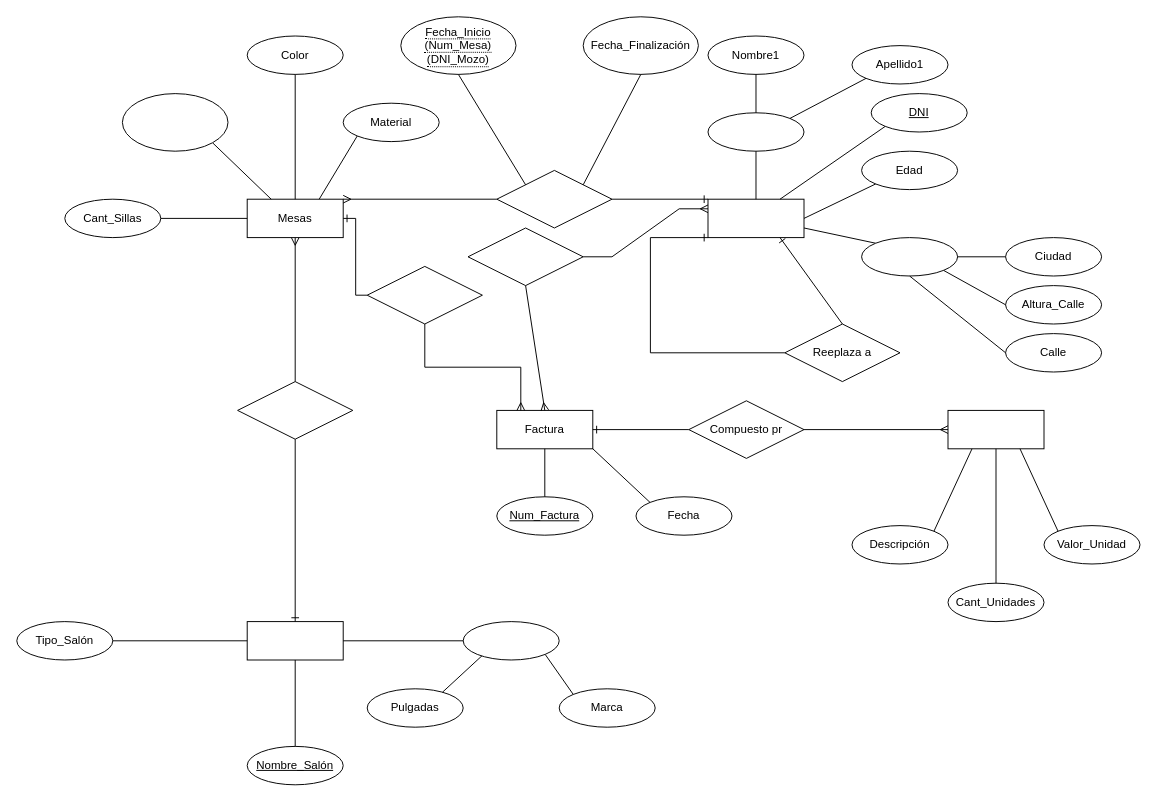
Some shapes in this 1157 by 802 pixel diagram are drawn without their labels. Each missing label, with the centre of its shape:
"Asignado a" goes at (x=554, y=198).
"Domicilio" goes at (x=909, y=256).
"Mozos" goes at (x=755, y=218).
"Nombre_Mozo" goes at (x=755, y=131).
"Num_Mesa (Nombre_Salón)" goes at (x=174, y=122).
"Pertenece a" goes at (x=295, y=410).
"Realizada por" goes at (x=525, y=256).
"Salones" goes at (x=294, y=640).
"Se registra en" goes at (x=424, y=294).
"Televisor" goes at (x=510, y=640).
"Ítems" goes at (x=995, y=429).
